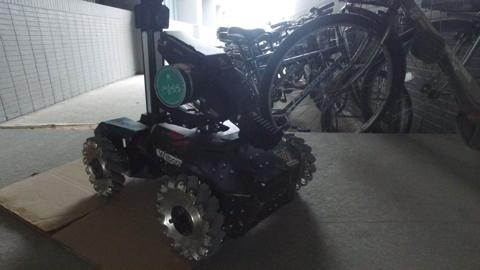bike: (259, 9, 471, 149)
chariot: (80, 11, 291, 252)
